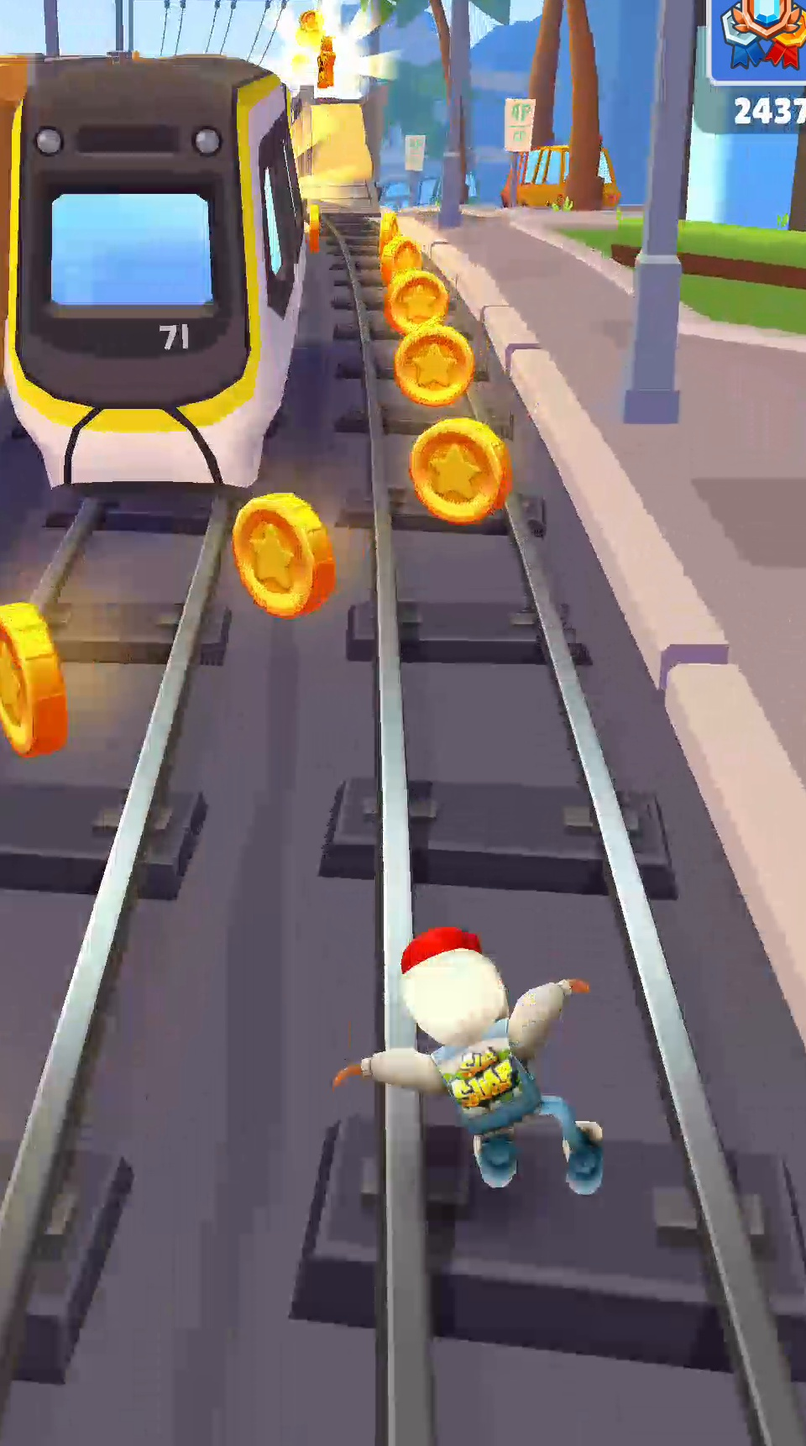climber: (290, 90, 376, 211)
train: (0, 55, 314, 496), (0, 55, 34, 373)
